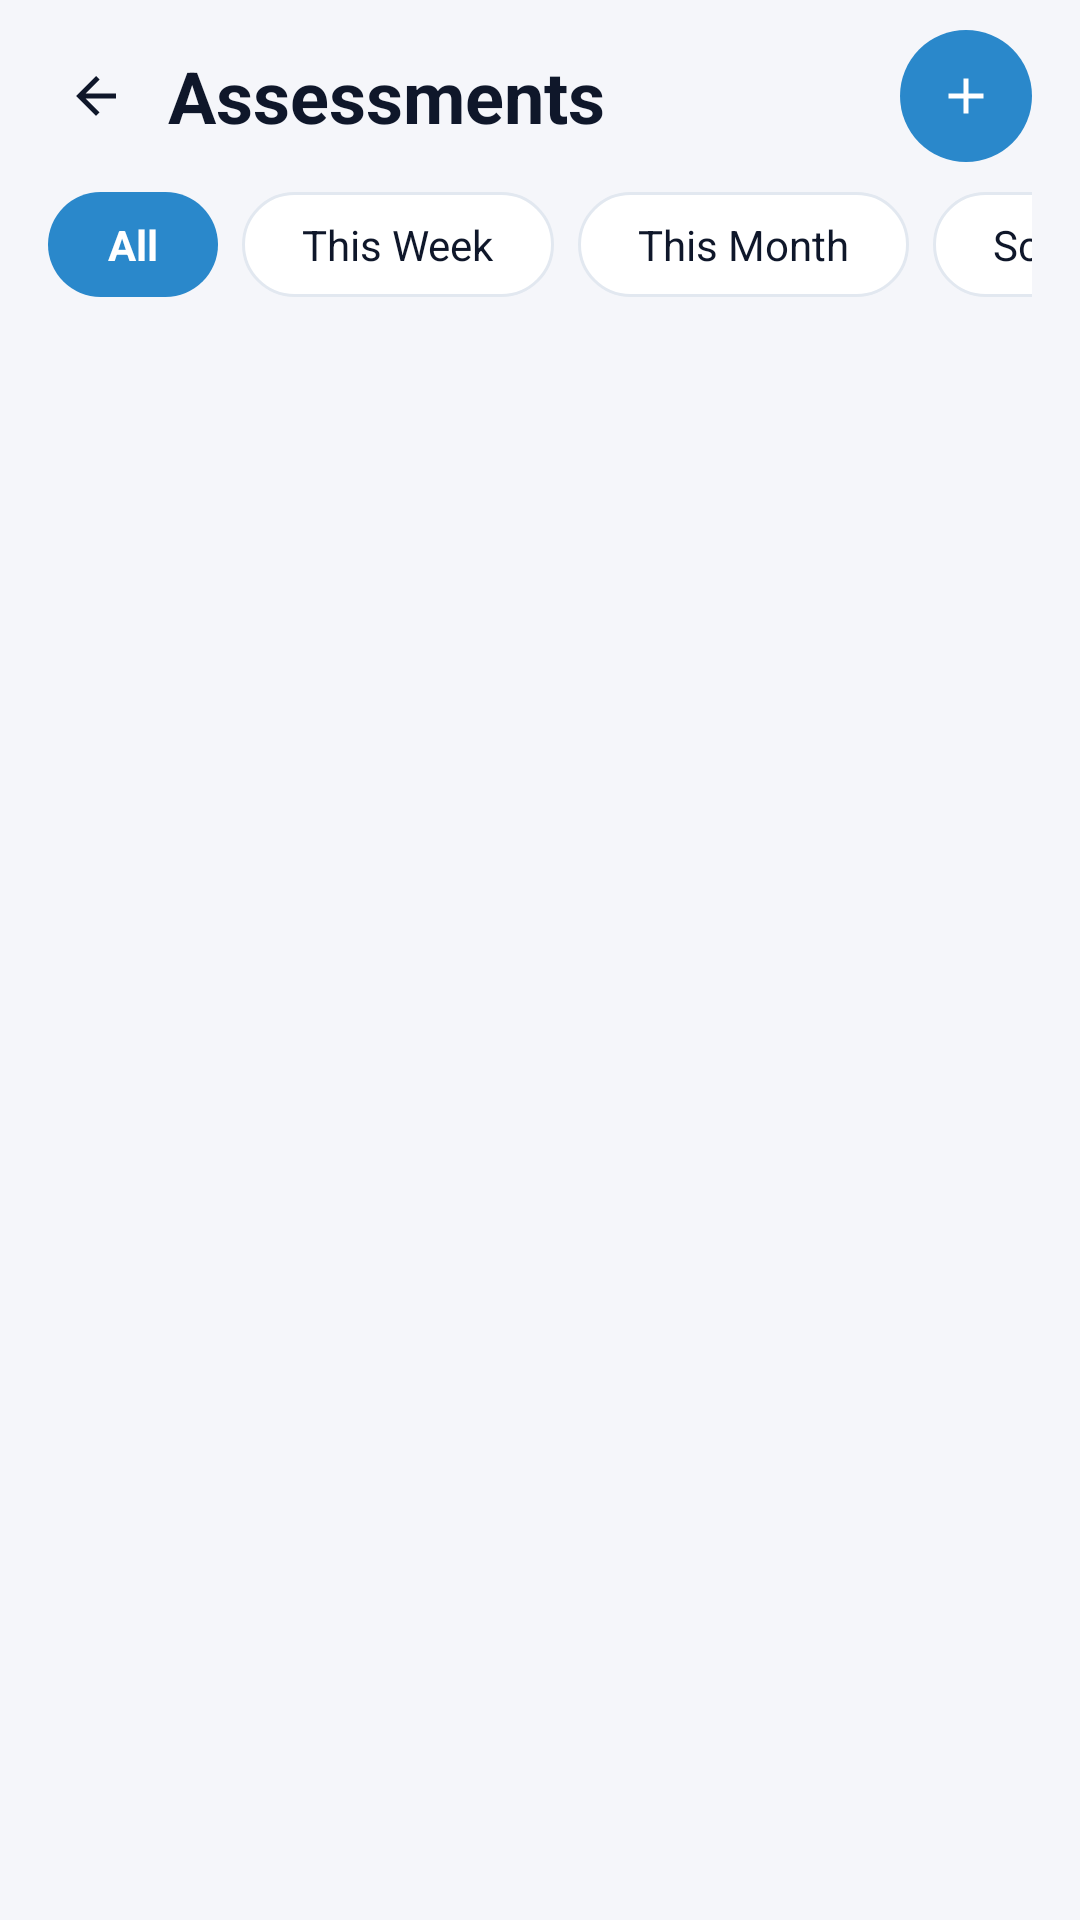

Locate icon controls on the screen. Image size 1080*1920, boxes as (x1, y1, x2, y2).
Back: (76, 76, 116, 116)
